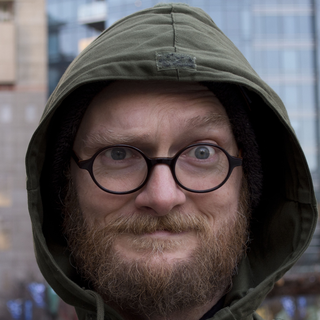eye: (181, 141, 223, 166), (100, 143, 143, 167)
